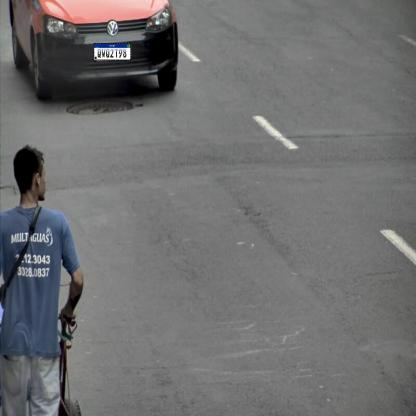PlacaM: (94, 43, 131, 60)
